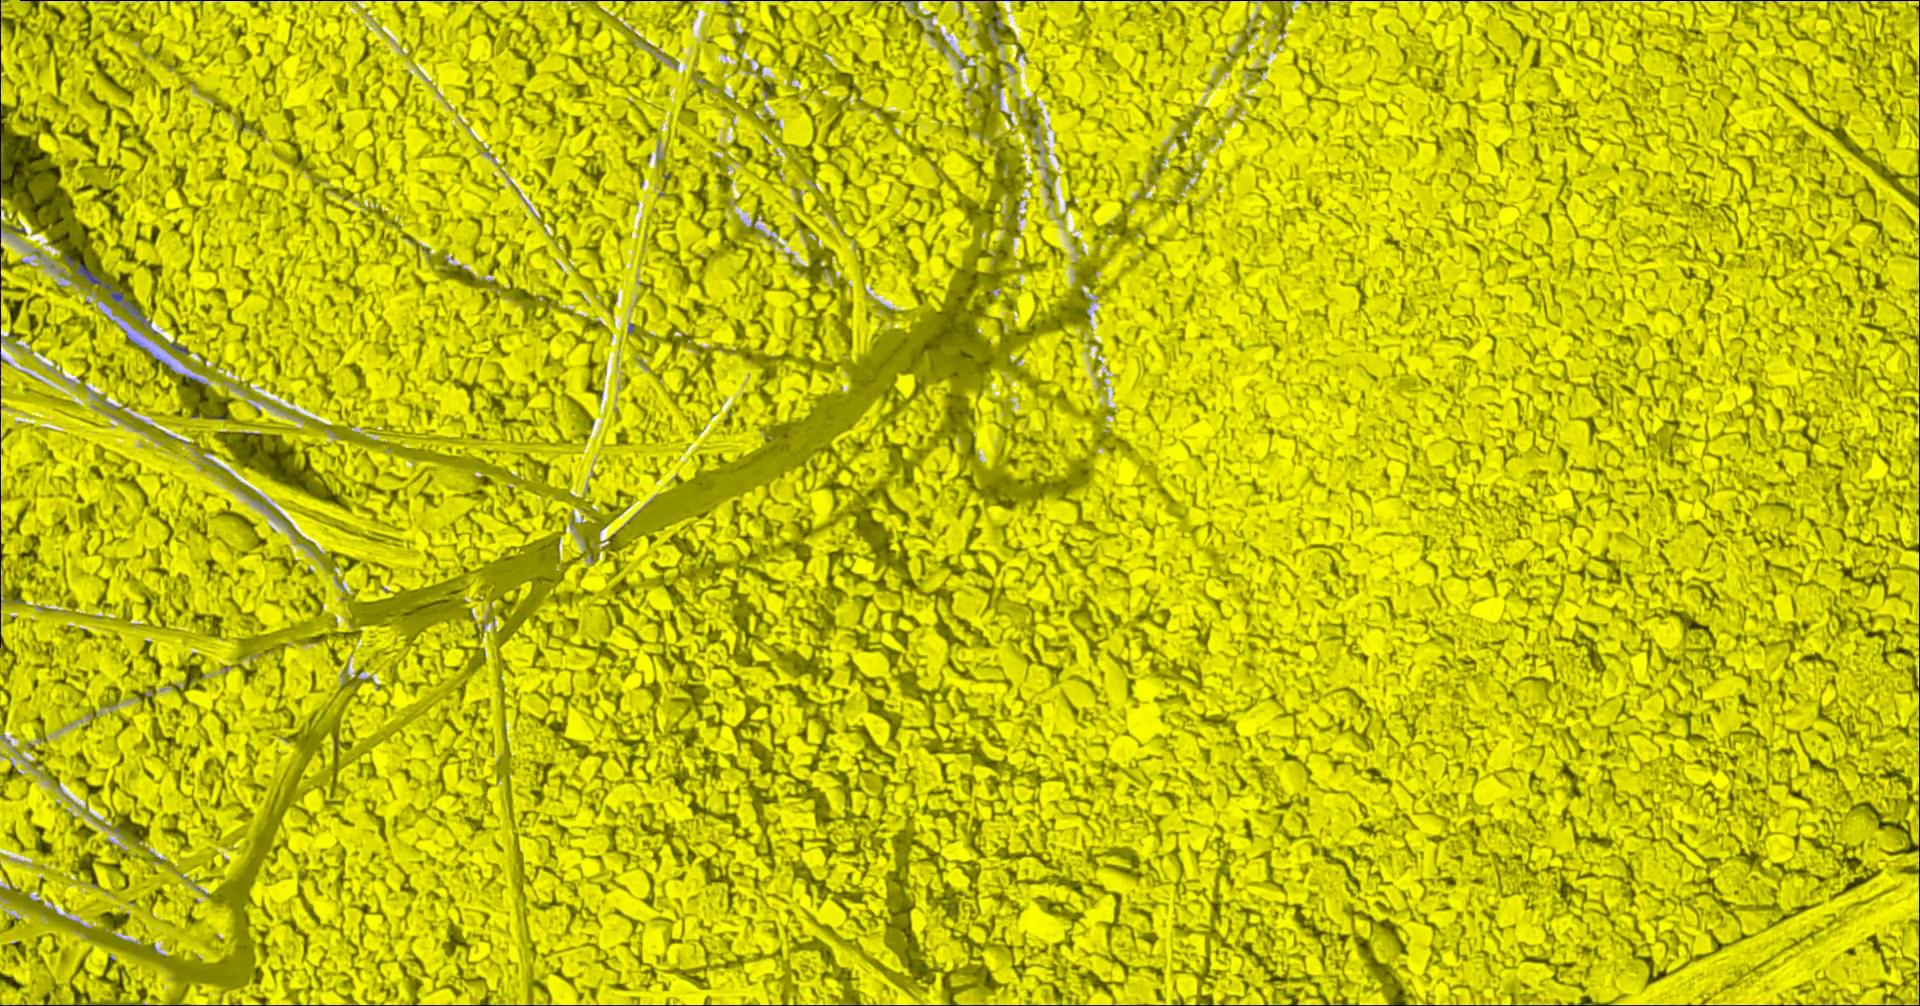ant: (80, 263, 102, 285)
